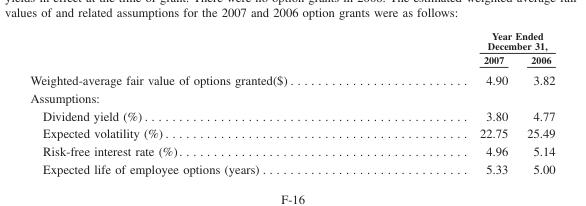table: (29, 29, 554, 175)
table column: (29, 29, 385, 175), (385, 29, 516, 175), (516, 29, 554, 175)
table column header: (29, 29, 554, 68)
table projected row header: (29, 88, 554, 106)
table row: (29, 29, 554, 52), (29, 68, 554, 88), (29, 88, 554, 106), (29, 106, 554, 124), (29, 141, 554, 159), (29, 124, 554, 141), (29, 52, 554, 68), (29, 159, 554, 175)
table spanning cell: (385, 29, 554, 52)
